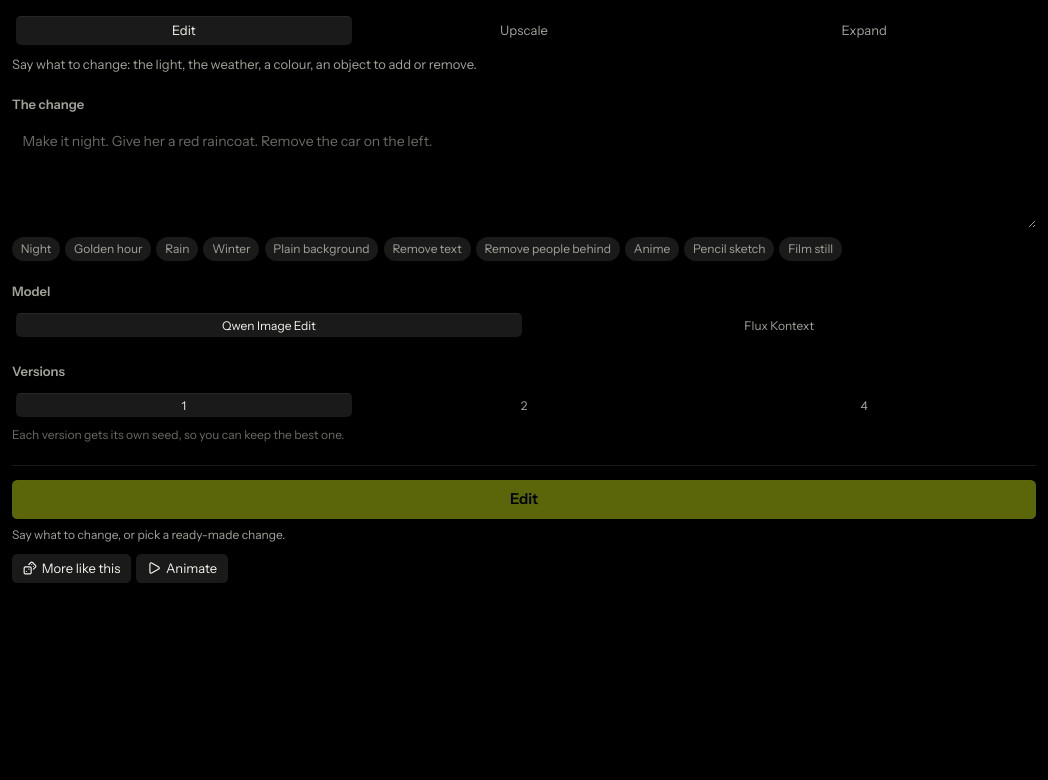
it: the tools › waits for words before editing, and says why a tool can't run
Check: the button "Edit" is disabled, box [12,480,1036,519]
Click the radio button labelled "Expand".
click(864, 30)  # box [696,16,1032,45]
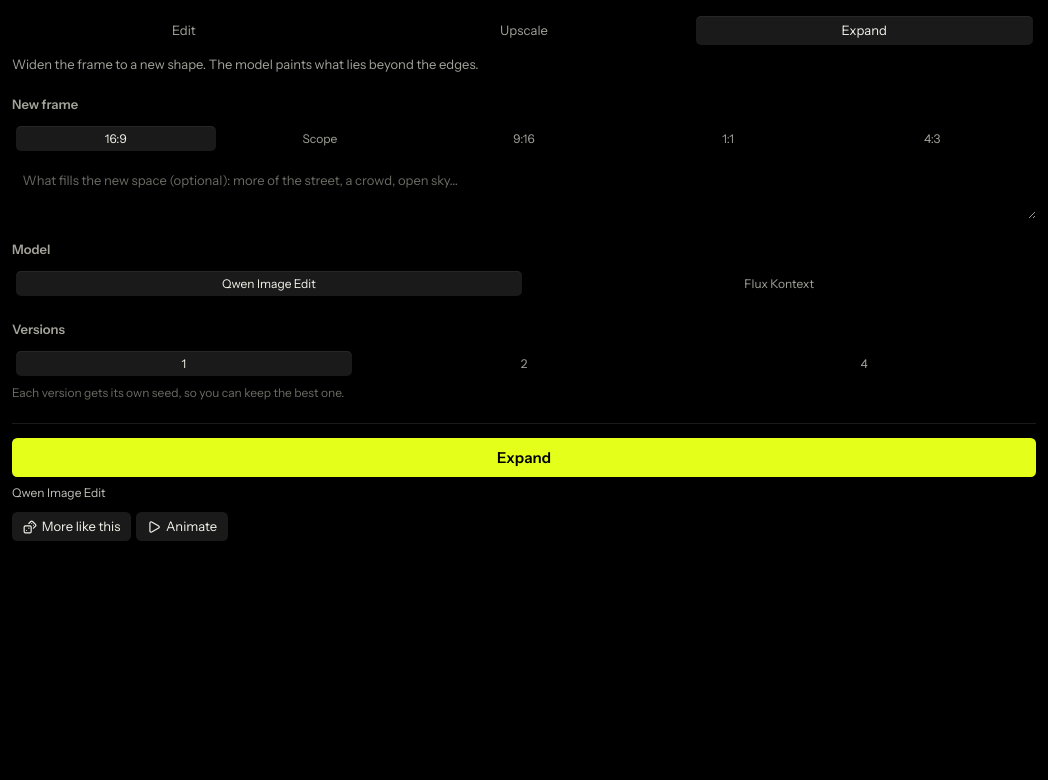
Click the radio button labelled "1:1".
click(728, 138)  # box [628,126,828,151]
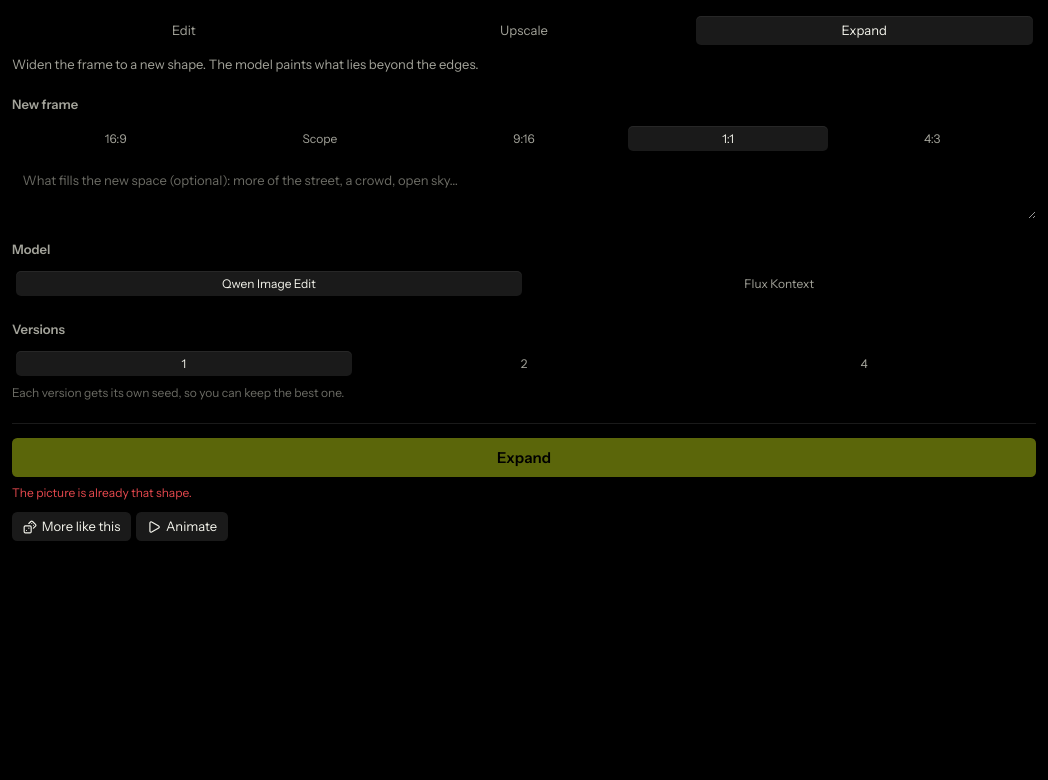
Check: the text "The picture is already that shape." is shown, box [12,485,192,500]
